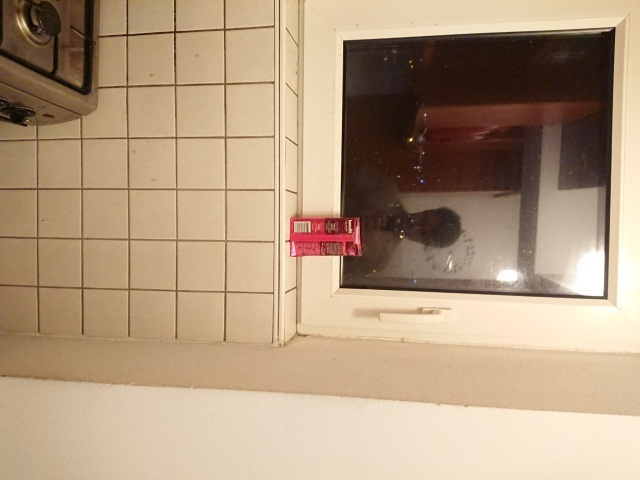Barcaffe Classic Original 225g: (288, 215, 366, 259)
